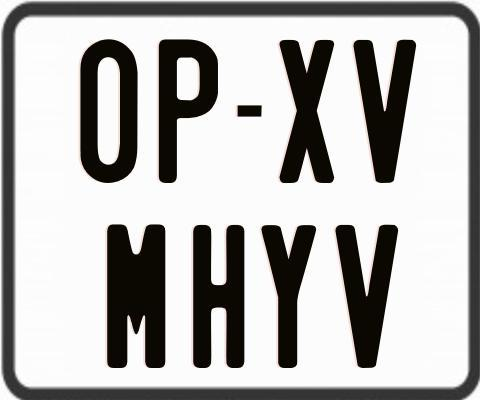0: (79, 38, 137, 184)
H: (192, 225, 245, 372)
M: (106, 222, 168, 366)
P: (156, 38, 217, 185)
V: (335, 223, 403, 371), (350, 40, 413, 188)
X: (277, 39, 333, 188)
Y: (260, 223, 321, 371)
